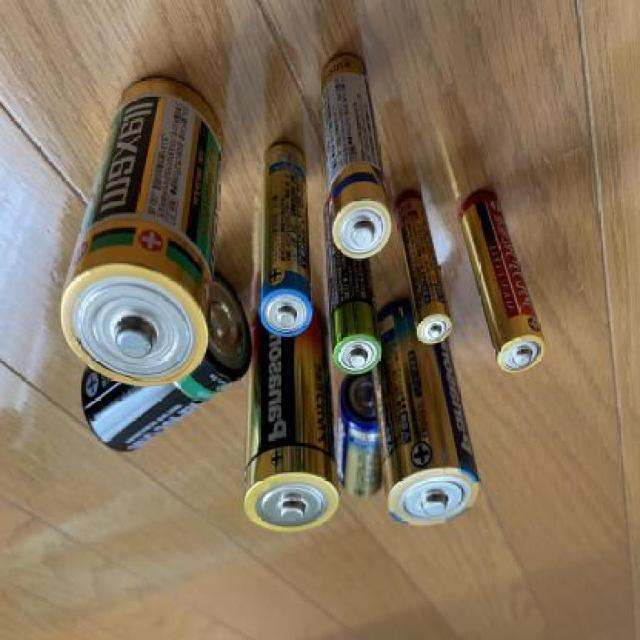hazardous waste: (57, 72, 226, 391), (78, 260, 257, 458), (371, 292, 486, 531), (238, 304, 337, 534), (455, 190, 548, 376), (315, 49, 394, 256), (258, 140, 316, 337), (322, 195, 384, 374), (396, 180, 462, 345), (336, 375, 390, 500)
